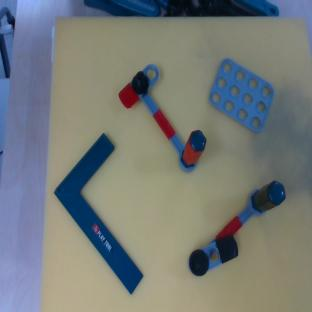non_pass: (182, 173, 295, 287)
pass: (113, 62, 216, 180)
